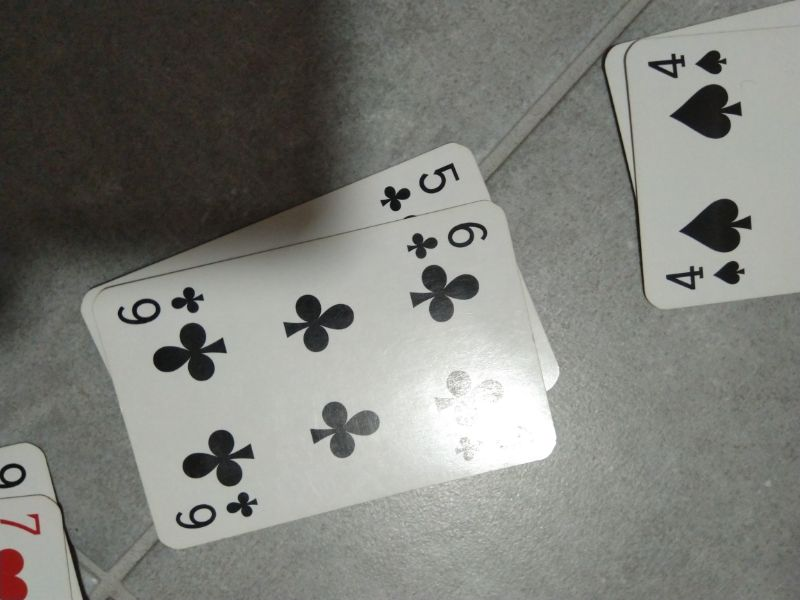4s: (643, 48, 735, 80), (661, 259, 748, 292)
5c: (373, 158, 466, 214)
6c: (111, 279, 211, 329), (170, 487, 262, 534), (399, 216, 492, 260)
